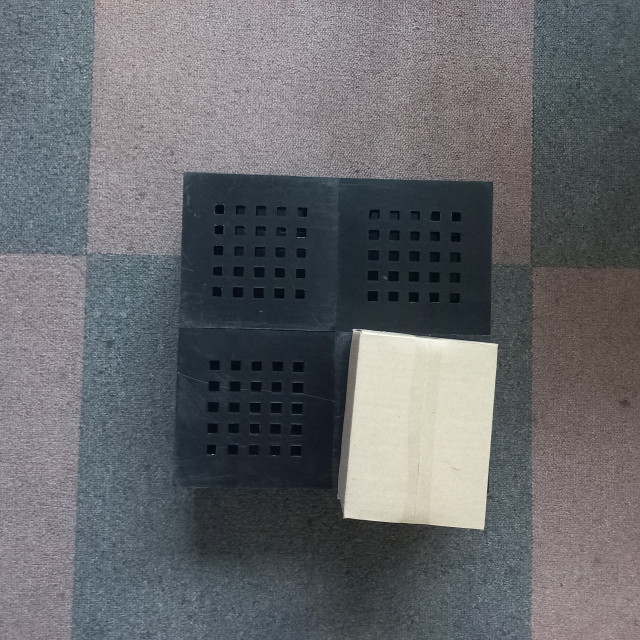box: (184, 109, 304, 312)
pallet: (188, 153, 432, 471)
